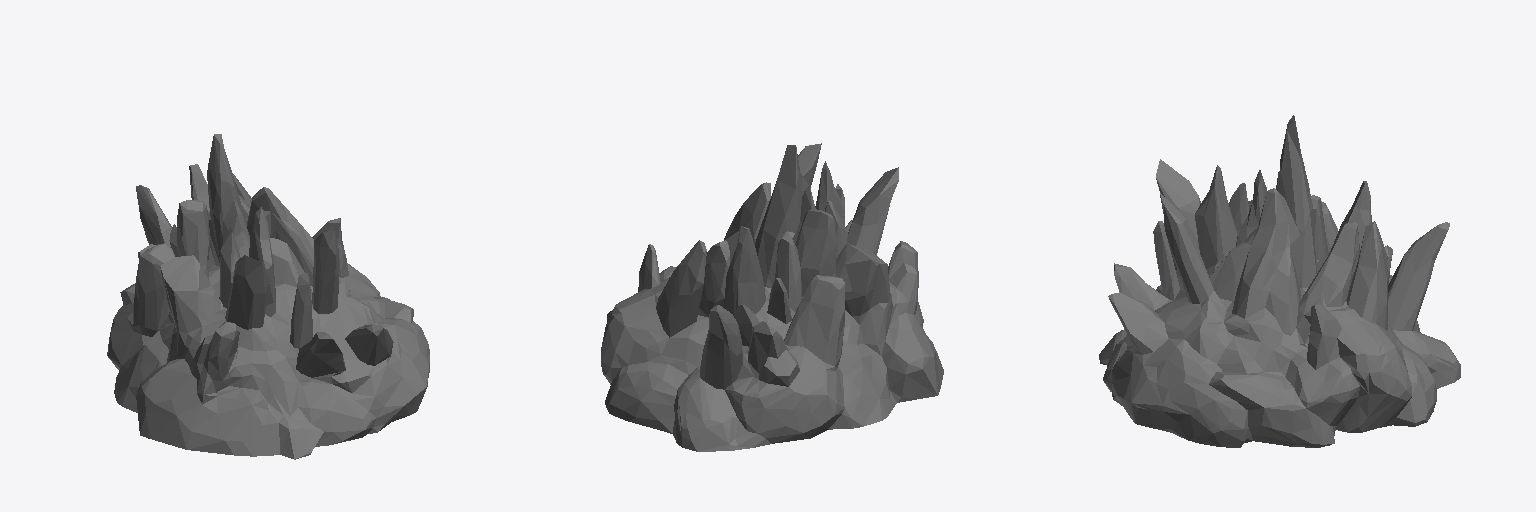
File: SM_CrystalMetal_01.obj
3 renders of one model, left to right at view 1: azimuth 30°, elevation 25°; view 2: azimuth 150°, elevation 25°; view 3: azimuth 270°, elevation 25°, orthographic.
Parts seen in each view (by area): view 1: CrystalMetal_01; view 2: CrystalMetal_01; view 3: CrystalMetal_01.
Boxes of the visible parts, x1,y1,x2,y2 form: CrystalMetal_01: [107, 134, 429, 459]; CrystalMetal_01: [601, 143, 943, 451]; CrystalMetal_01: [1099, 115, 1460, 447].
Bounding box in the file's own units: 297 × 248 × 327.